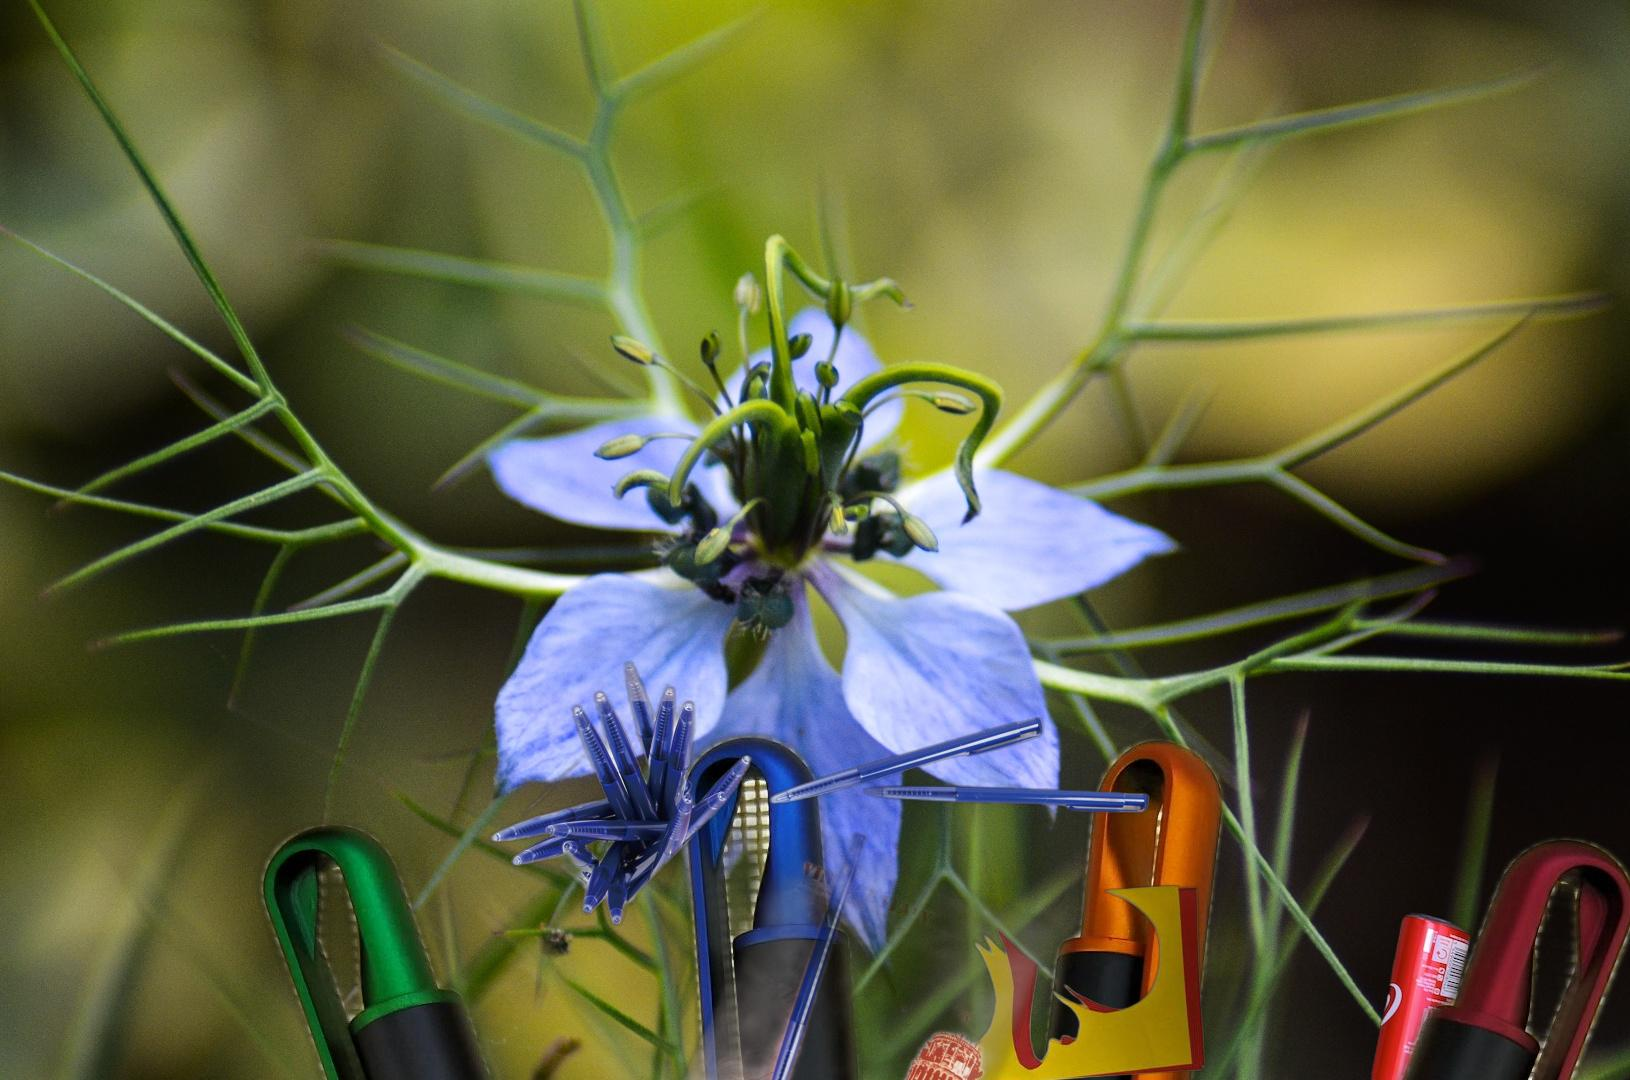metal-cans: (1366, 906, 1475, 1080)
paper: (914, 884, 1210, 1080)
penholder: (55, 442, 1630, 1080), (483, 659, 1155, 1080)
